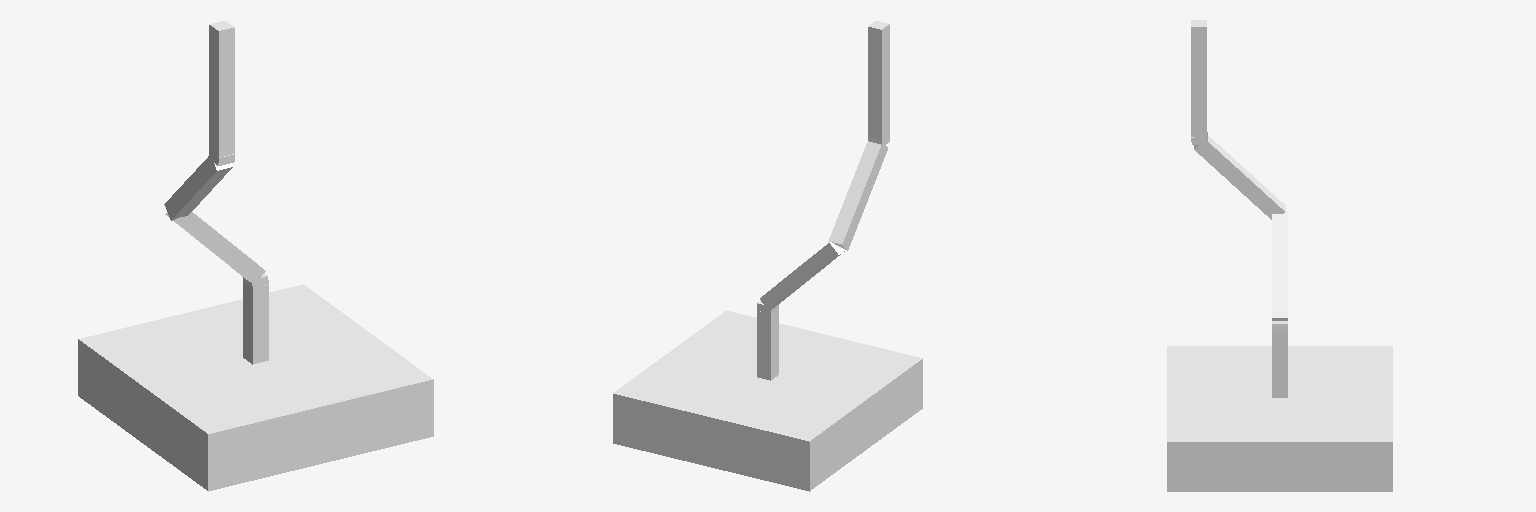
The robot description file, URDF, robot "maze_C":
<?xml version="1.0"?>
<robot name="maze_C">
  <link name="mazeLink">
    <material name="maze_white"><color rgba="1 1 1 1"/></material>
    <visual>
      <origin xyz="-0.050000 -0.050000 0.192370" rpy="0.000000 3.141593 3.141593" />
      <geometry>
        <box size="0.010000 0.010000 0.075261" />
      </geometry>
      <material name="maze_white" />
    </visual>
    <collision>
      <origin xyz="-0.050000 -0.050000 0.192370" rpy="0.000000 3.141593 3.141593" />
      <geometry>
        <box size="0.010000 0.010000 0.075261" />
      </geometry>
    </collision>
    <visual>
      <origin xyz="-0.050000 -0.049898 0.152267" rpy="0.000000 3.100186 1.570796" />
      <geometry>
        <box size="0.010000 0.010000 0.004948" />
      </geometry>
      <material name="maze_white" />
    </visual>
    <collision>
      <origin xyz="-0.050000 -0.049898 0.152267" rpy="0.000000 3.100186 1.570796" />
      <geometry>
        <box size="0.010000 0.010000 0.004948" />
      </geometry>
    </collision>
    <visual>
      <origin xyz="-0.049978 -0.024914 0.124893" rpy="0.000000 2.356633 1.569919" />
      <geometry>
        <box size="0.010000 0.010000 0.070404" />
      </geometry>
      <material name="maze_white" />
    </visual>
    <collision>
      <origin xyz="-0.049978 -0.024914 0.124893" rpy="0.000000 2.356633 1.569919" />
      <geometry>
        <box size="0.010000 0.010000 0.070404" />
      </geometry>
    </collision>
    <visual>
      <origin xyz="-0.025081 -0.000017 0.075097" rpy="0.000000 2.356532 0.000676" />
      <geometry>
        <box size="0.010000 0.010000 0.070383" />
      </geometry>
      <material name="maze_white" />
    </visual>
    <collision>
      <origin xyz="-0.025081 -0.000017 0.075097" rpy="0.000000 2.356532 0.000676" />
      <geometry>
        <box size="0.010000 0.010000 0.070383" />
      </geometry>
    </collision>
    <visual>
      <origin xyz="-0.000102 0.000000 0.047733" rpy="0.000000 3.100186 0.000000" />
      <geometry>
        <box size="0.010000 0.010000 0.004948" />
      </geometry>
      <material name="maze_white" />
    </visual>
    <collision>
      <origin xyz="-0.000102 0.000000 0.047733" rpy="0.000000 3.100186 0.000000" />
      <geometry>
        <box size="0.010000 0.010000 0.004948" />
      </geometry>
    </collision>
    <visual>
      <origin xyz="-0.000000 0.000000 0.022630" rpy="0.000000 3.141593 0.000000" />
      <geometry>
        <box size="0.010000 0.010000 0.045261" />
      </geometry>
      <material name="maze_white" />
    </visual>
    <collision>
      <origin xyz="-0.000000 0.000000 0.022630" rpy="0.000000 3.141593 0.000000" />
      <geometry>
        <box size="0.010000 0.010000 0.045261" />
      </geometry>
    </collision>
    <visual>
      <origin xyz="0 0 -0.017" rpy="0 0 0" />
      <geometry>
        <box size="0.14 0.14 0.034" />
      </geometry>
      <material name="maze_white" />
    </visual>
    <collision>
      <origin xyz="0 0 -0.017" rpy="0 0 0" />
      <geometry>
        <box size="0.14 0.14 0.034" />
      </geometry>
    </collision>
  </link>
</robot>

--- Facts derived from the render (not from the file) ---
3 views of the same robot in one strip: view 1: azimuth 30°, elevation 25°; view 2: azimuth 150°, elevation 25°; view 3: azimuth 270°, elevation 25° (orthographic).
Model maze_C with 1 links and 0 joints (none), rooted at mazeLink, posed all joints at 0.
Visible links, largest first — view 1: mazeLink; view 2: mazeLink; view 3: mazeLink.
Link boxes in pixels (x1,y1,x2,y2): mazeLink: (78, 21, 433, 491); mazeLink: (613, 21, 922, 491); mazeLink: (1167, 20, 1392, 491).
Bounding box of the posed robot: 0.14 × 0.14 × 0.264 m (x, y, z).
Geometry: primitives only (box / cylinder / sphere), no mesh files.
